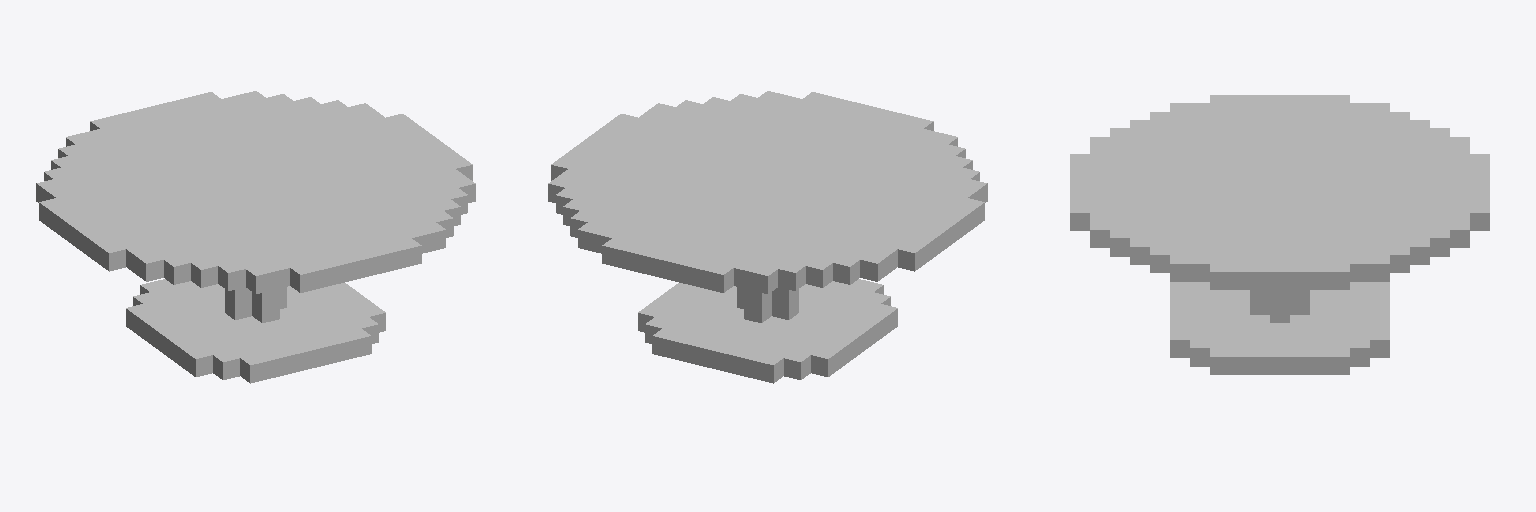
File: table.obj
3 renders of one model, left to right at view 1: azimuth 30°, elevation 25°; view 2: azimuth 150°, elevation 25°; view 3: azimuth 270°, elevation 25°, orthographic.
Parts seen in each view (by area): view 1: table; view 2: table; view 3: table.
Boxes of the visible parts, box(x1,y1,x2,y2) form: table: box(36, 91, 475, 383); table: box(548, 91, 987, 383); table: box(1070, 95, 1489, 374).
Size of the model in its own units: 21 by 8 by 21.